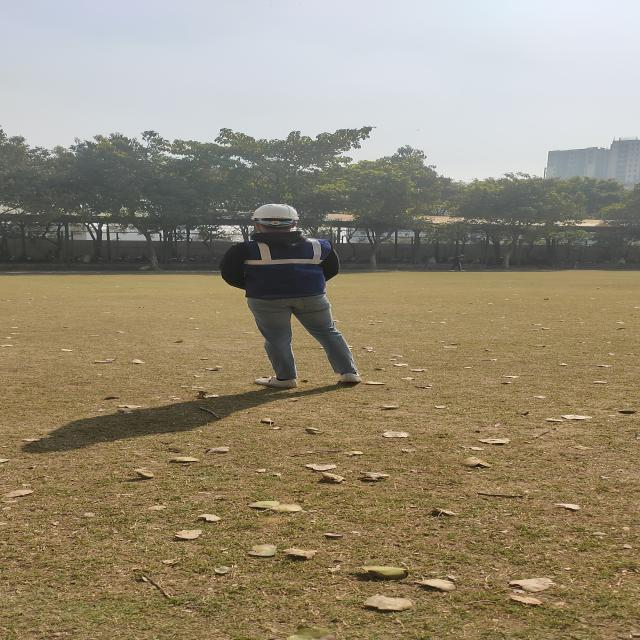safe: (221, 204, 360, 386)
